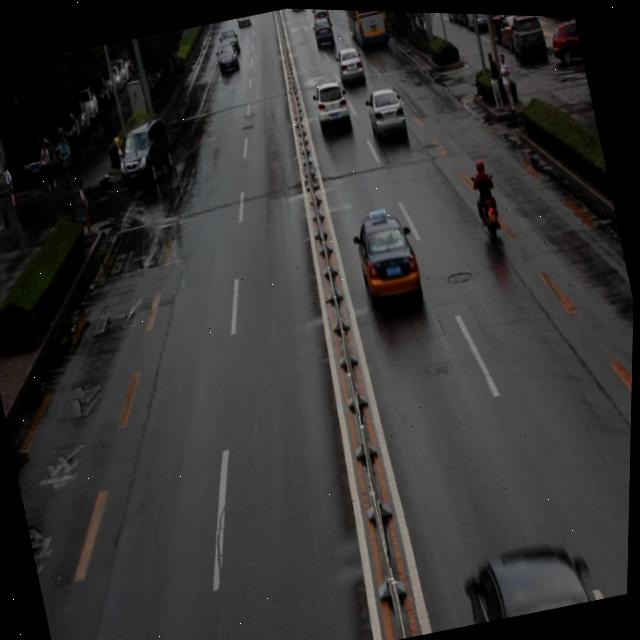car: (348, 204, 423, 304), (361, 79, 408, 144), (310, 75, 357, 139)
truck: (113, 117, 179, 190)
